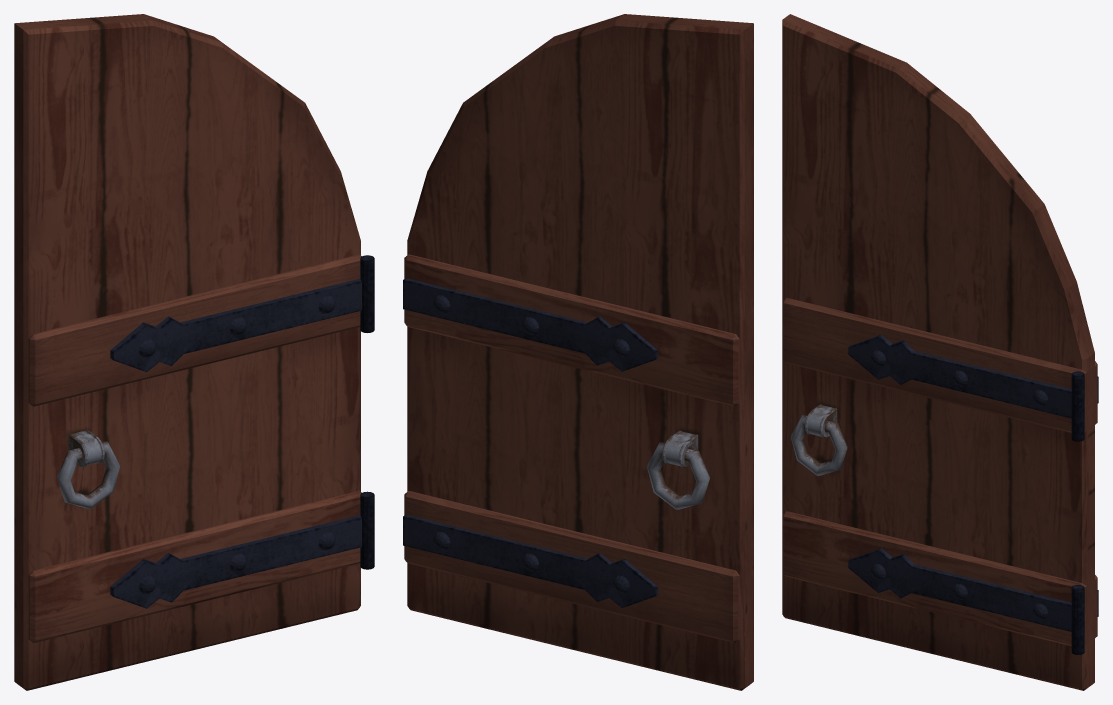
Rendered from BigDoorLeft.fbx.
The picture shows the model from 3 angles, left to right: view 1: azimuth 30°, elevation 25°; view 2: azimuth 150°, elevation 25°; view 3: azimuth 330°, elevation 25°; orthographic projection. The views are drawn at different scales.
Visible parts, largest first — view 1: DoubleDoorLeft; view 2: DoubleDoorLeft; view 3: DoubleDoorLeft.
Part boxes in pixels (x1=…): DoubleDoorLeft: x1=14, y1=14, x2=374, y2=690; DoubleDoorLeft: x1=403, y1=14, x2=753, y2=690; DoubleDoorLeft: x1=782, y1=14, x2=1098, y2=690.
Size of the model in its own units: 65.07 by 120 by 15.82.
